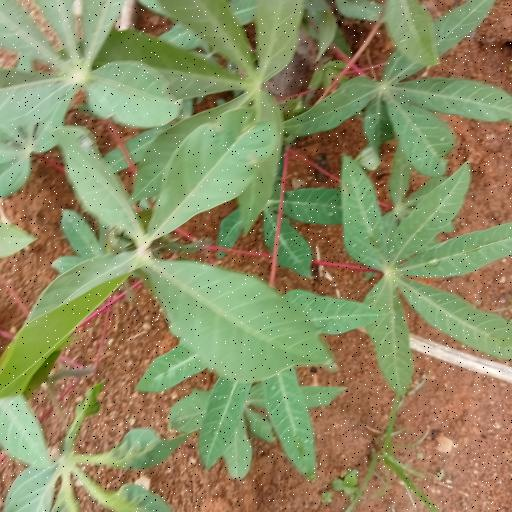Cassava_Mosaic: (0, 99, 301, 393), (338, 161, 512, 385)
